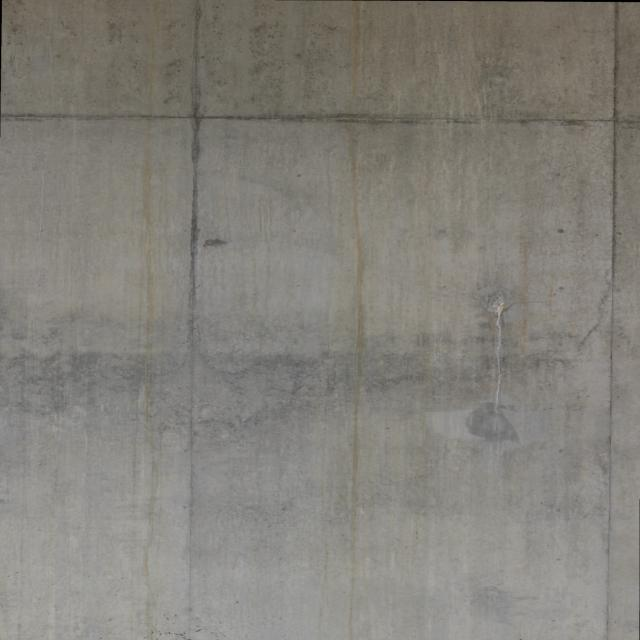corrosion: (0, 0, 640, 103), (326, 5, 410, 591), (125, 12, 182, 640)
